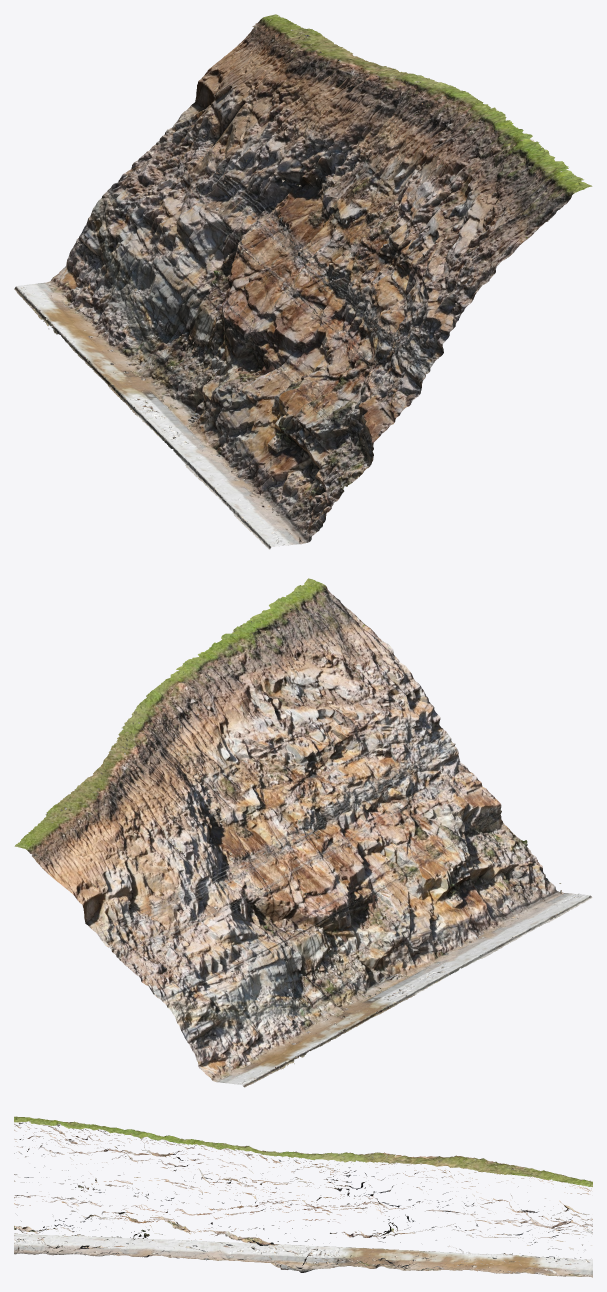
The picture shows the model from 3 angles, top to bottom: view 1: azimuth 30°, elevation 25°; view 2: azimuth 150°, elevation 25°; view 3: azimuth 270°, elevation 25°; orthographic projection. The views are drawn at different scales.
Bounding box in the file's own units: 19.04 × 14.84 × 30.51.
2 materials, 2 textured.
